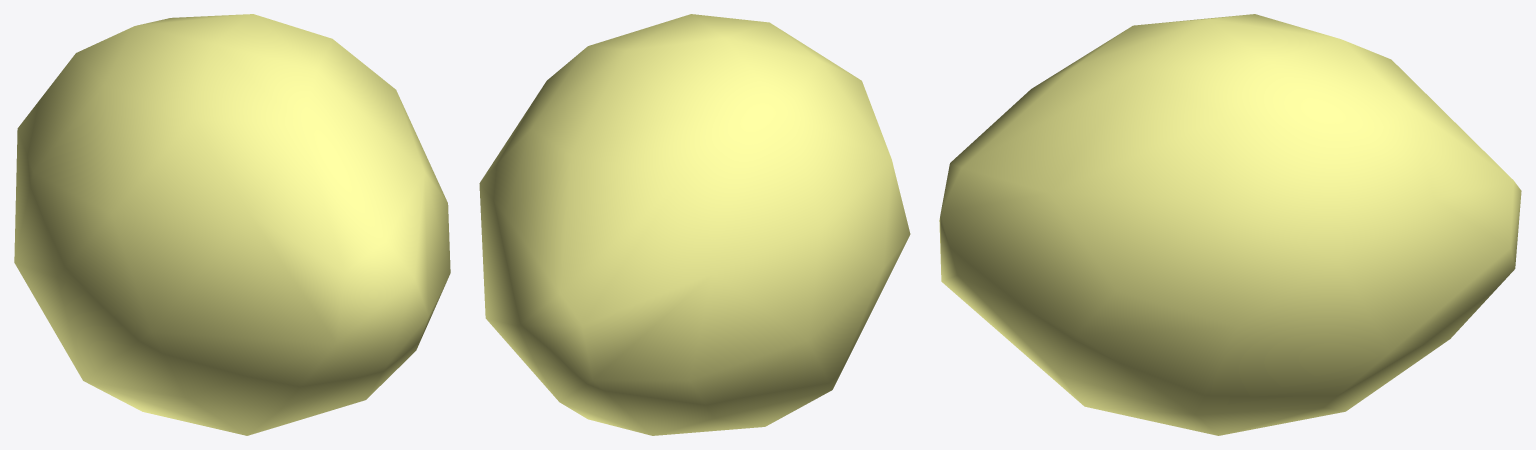
File: Lemon.fbx
3 views of the same model, side by side, from view 1: azimuth 30°, elevation 25°; view 2: azimuth 150°, elevation 25°; view 3: azimuth 270°, elevation 25° (orthographic). The views are drawn at different scales.
Visible parts, largest first — view 1: Lemon Whole; view 2: Lemon Whole; view 3: Lemon Whole.
Part boxes in pixels (x1=…): Lemon Whole: x1=14, y1=14, x2=450, y2=435; Lemon Whole: x1=479, y1=14, x2=910, y2=435; Lemon Whole: x1=939, y1=14, x2=1521, y2=435.
Size of the model in its own units: 0.6176 by 0.6132 by 0.832.
